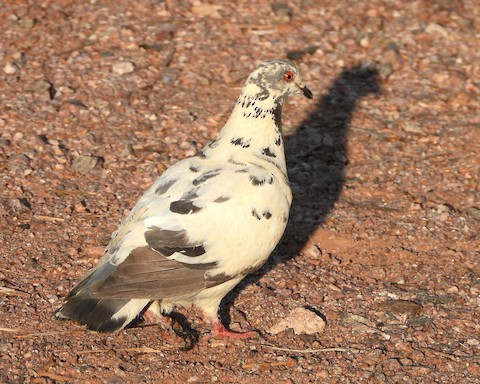pigeon: (50, 54, 319, 351)
